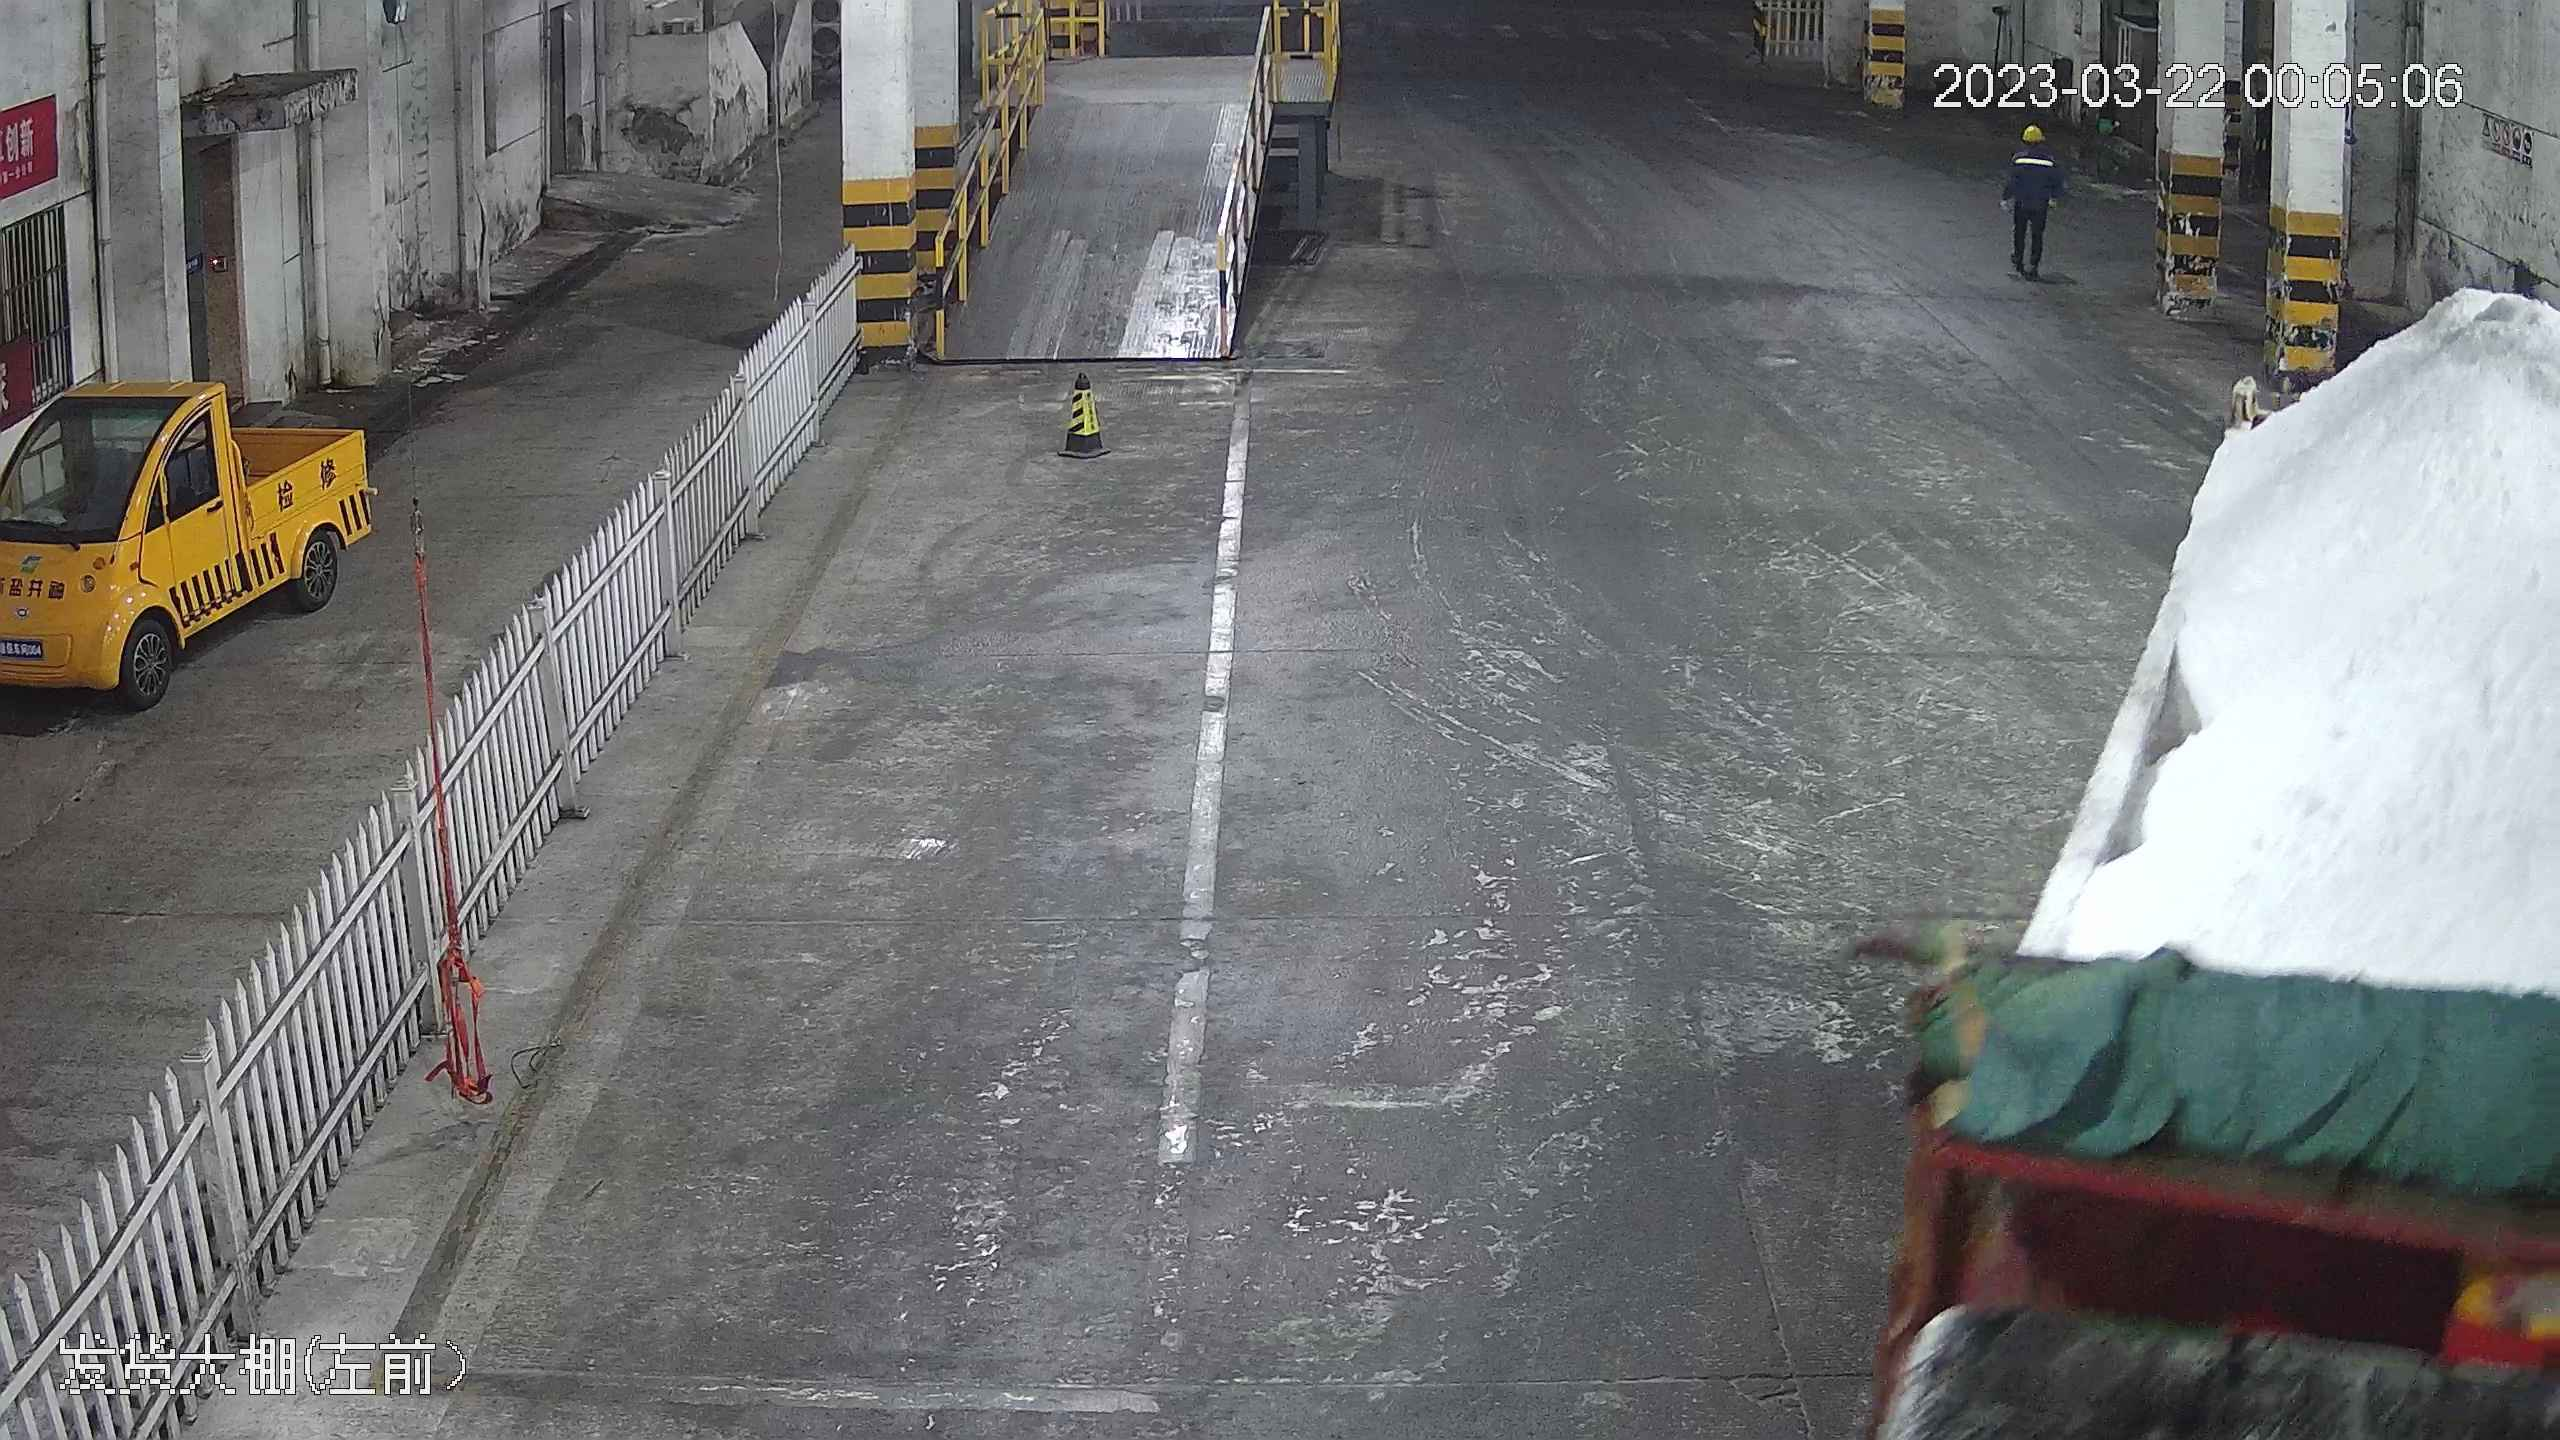head: (2013, 121, 2059, 168)
helmet: (2019, 121, 2052, 147)
people: (2001, 120, 2063, 280)
truck: (1853, 41, 2560, 1440)
